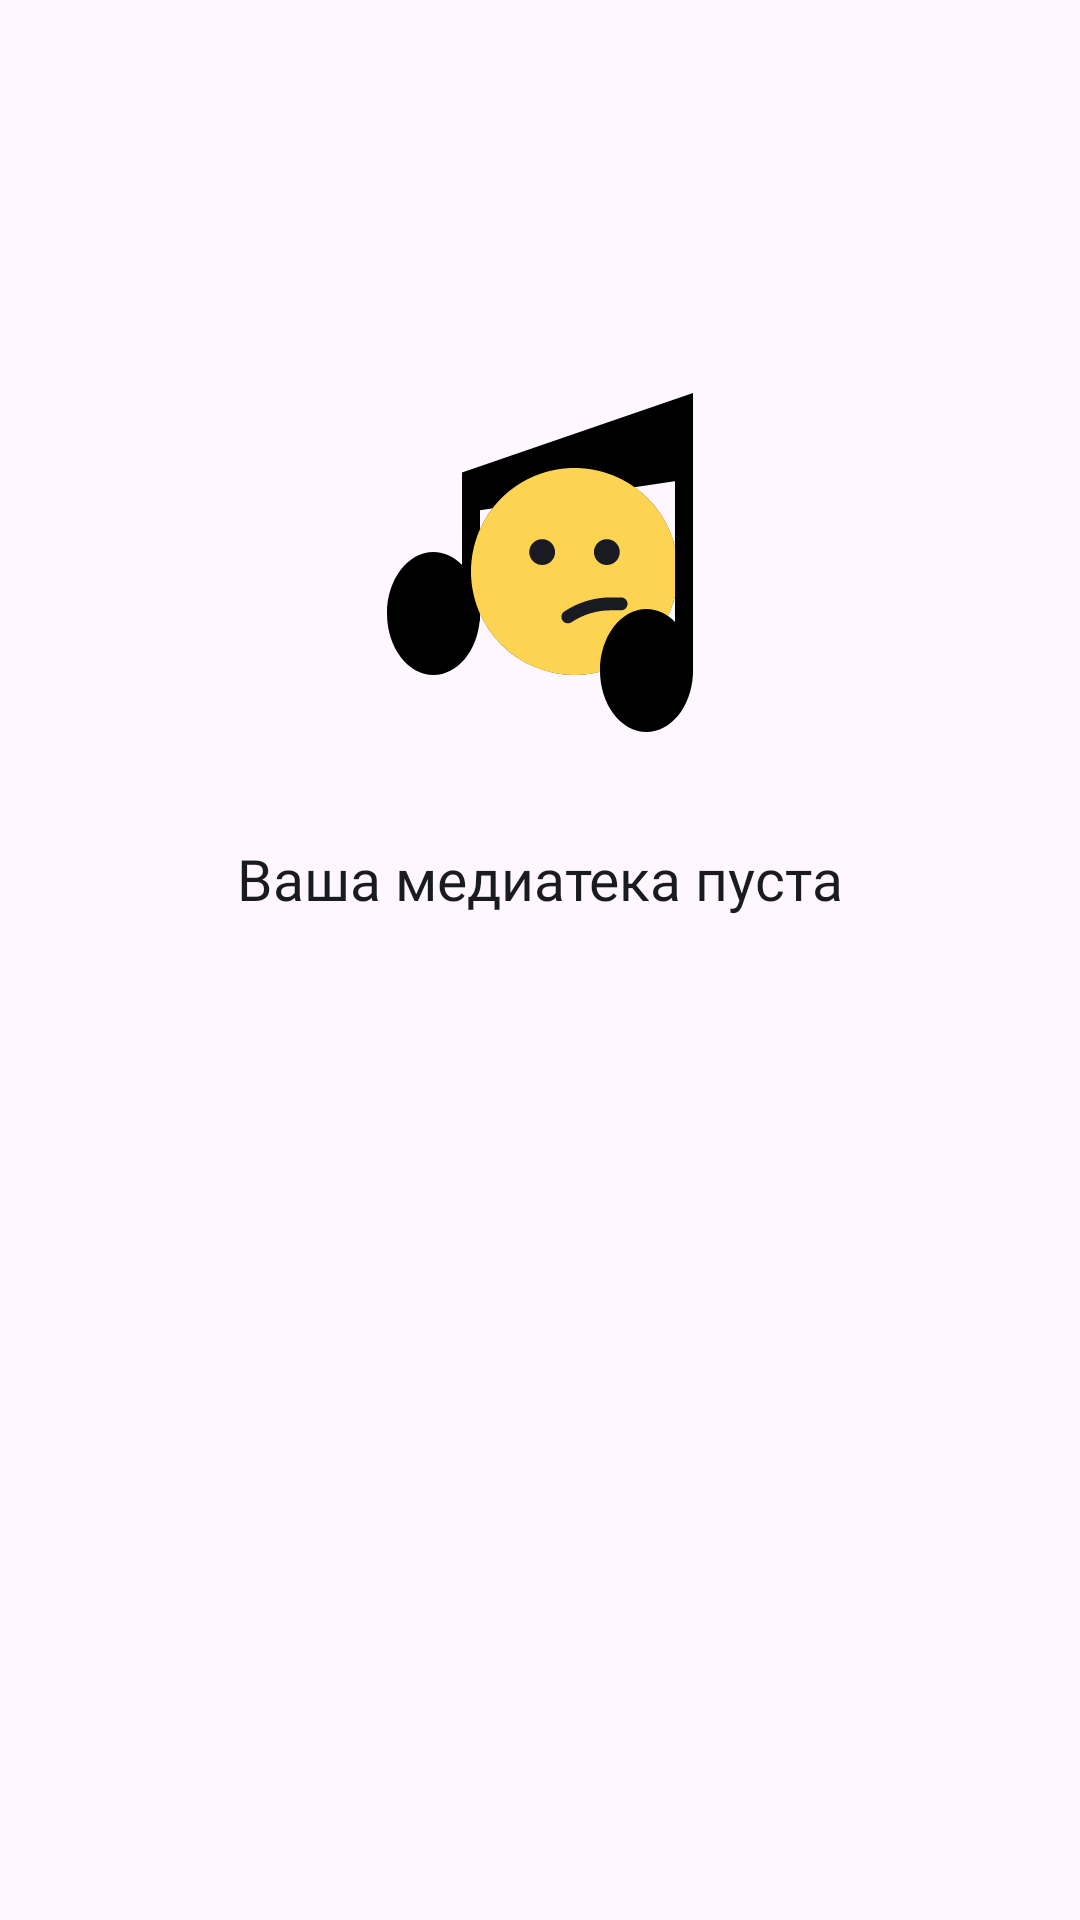

Icon click points for this 1080w x 1920h phone screenshot, format (x=x, y=y):
nodatafound: (x=540, y=562)
